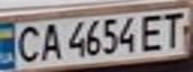4: (115, 14, 142, 54), (63, 18, 87, 58)
5: (100, 16, 124, 56)
6: (81, 16, 103, 57)
A: (36, 20, 63, 61)
C: (9, 22, 45, 64)
E: (136, 11, 169, 53)
T: (157, 9, 190, 50)
